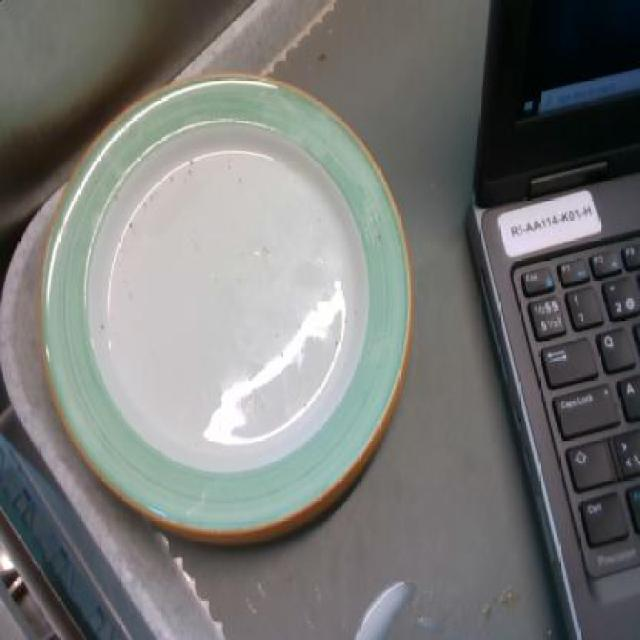plate: (38, 67, 414, 547)
